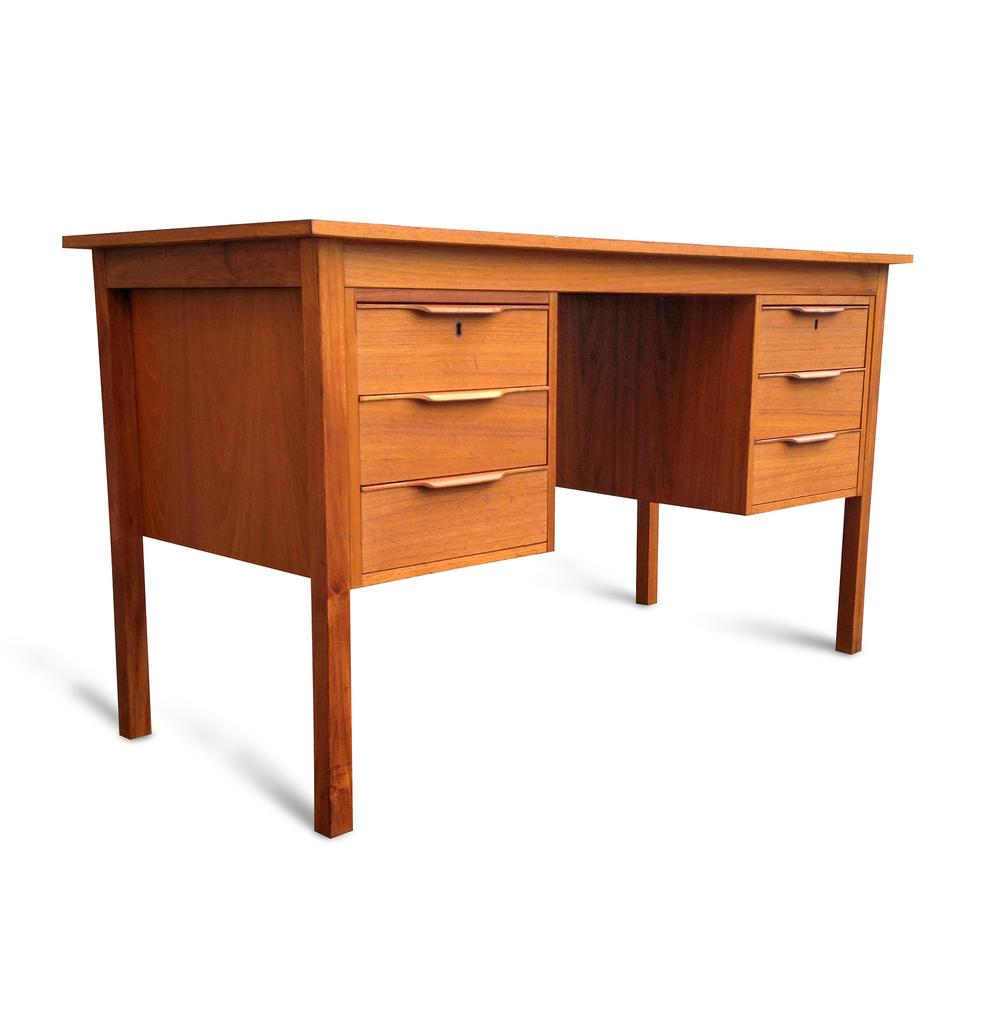cabinet_door: (363, 303, 546, 380), (366, 392, 544, 464), (370, 474, 544, 539), (756, 304, 862, 356), (754, 444, 850, 496), (758, 382, 860, 422)
handle: (410, 388, 497, 416), (416, 474, 506, 498), (421, 296, 500, 320), (782, 298, 852, 324), (784, 421, 832, 458), (787, 366, 842, 388)
